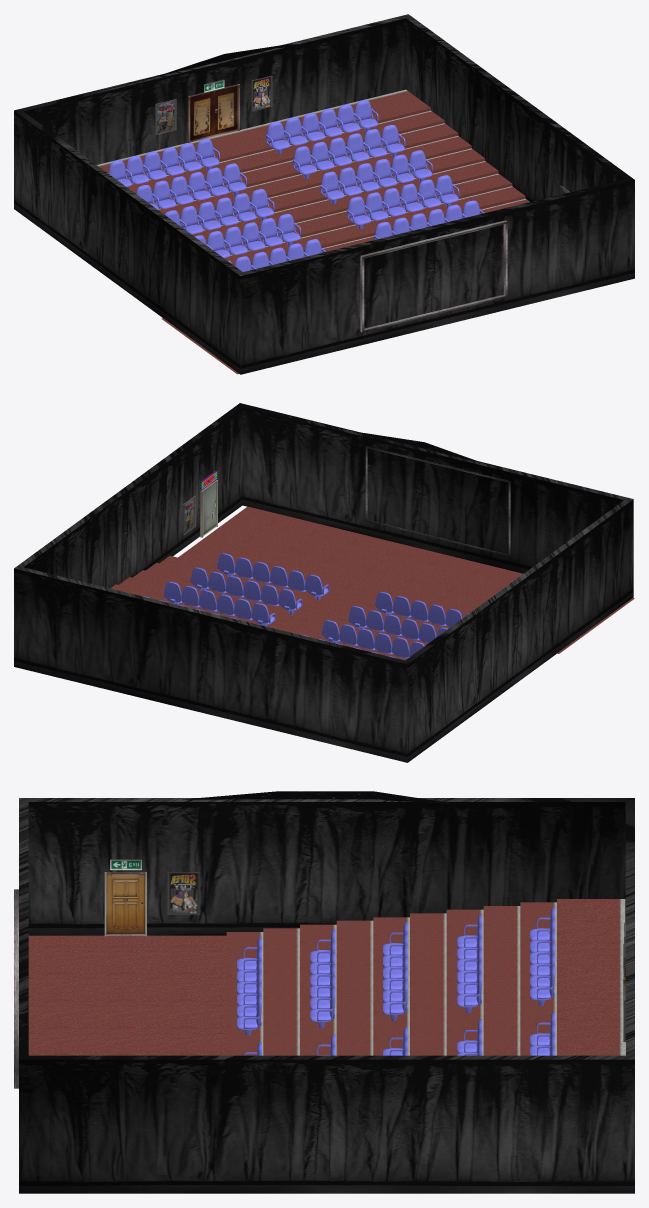
The model's file is Cinema.glb.
3 renders of one model, top to bottom at view 1: azimuth 30°, elevation 25°; view 2: azimuth 150°, elevation 25°; view 3: azimuth 270°, elevation 25°, orthographic. The views are drawn at different scales.
Visible parts, largest first — view 1: Cinema; view 2: Cinema; view 3: Cinema.
Boxes of the visible parts, x1,y1,x2,y2 form: Cinema: (14,14,634,374); Cinema: (14,403,634,762); Cinema: (14,791,634,1193).
Size of the model in its own units: 159 by 56.85 by 158.
Materials: 13 (13 with a texture image).
